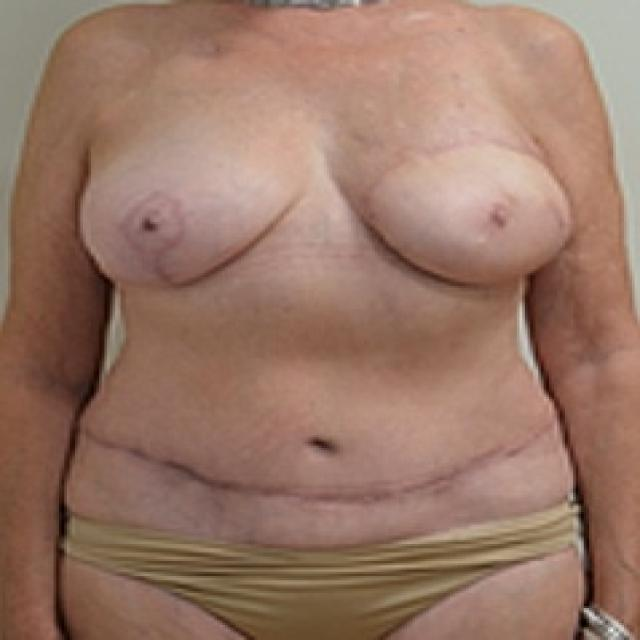Seno herido: (322, 100, 586, 306), (66, 100, 315, 306)
